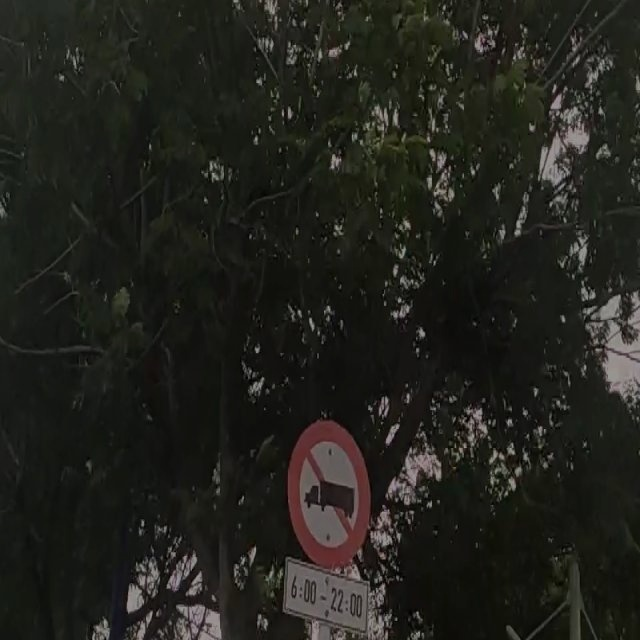B.8a: (284, 422, 376, 621)
